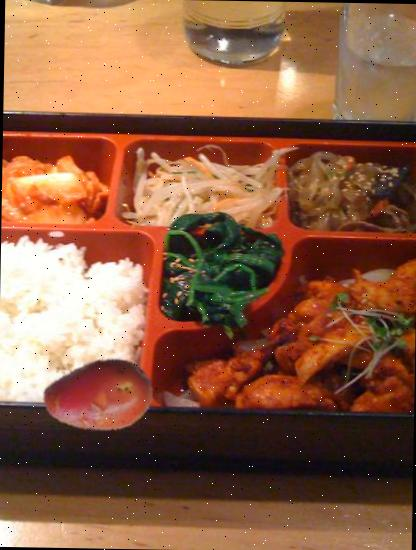Potato: (43, 341, 156, 454)
